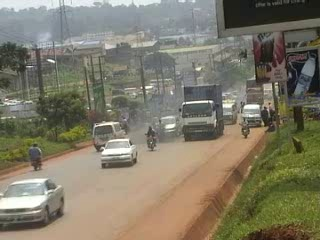Car: (0, 177, 67, 229), (100, 136, 140, 167), (156, 114, 182, 137)
Motorcycle: (27, 141, 44, 170), (143, 125, 157, 151), (154, 117, 166, 143), (238, 116, 251, 139)
